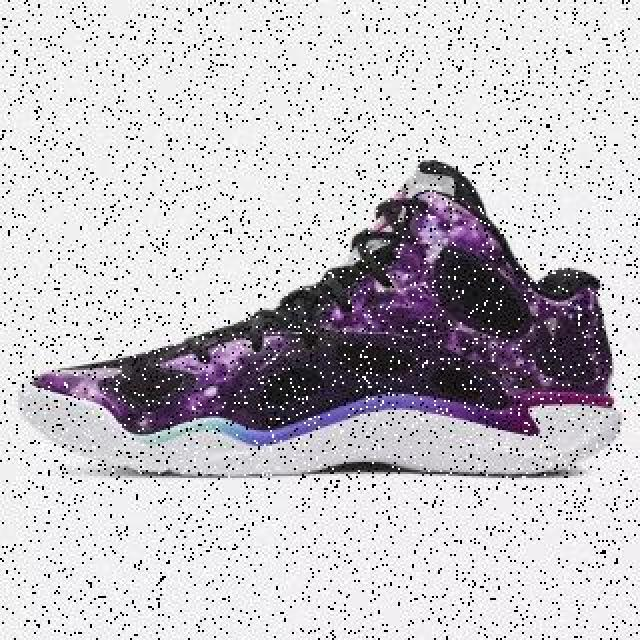shoe: (11, 158, 625, 478)
